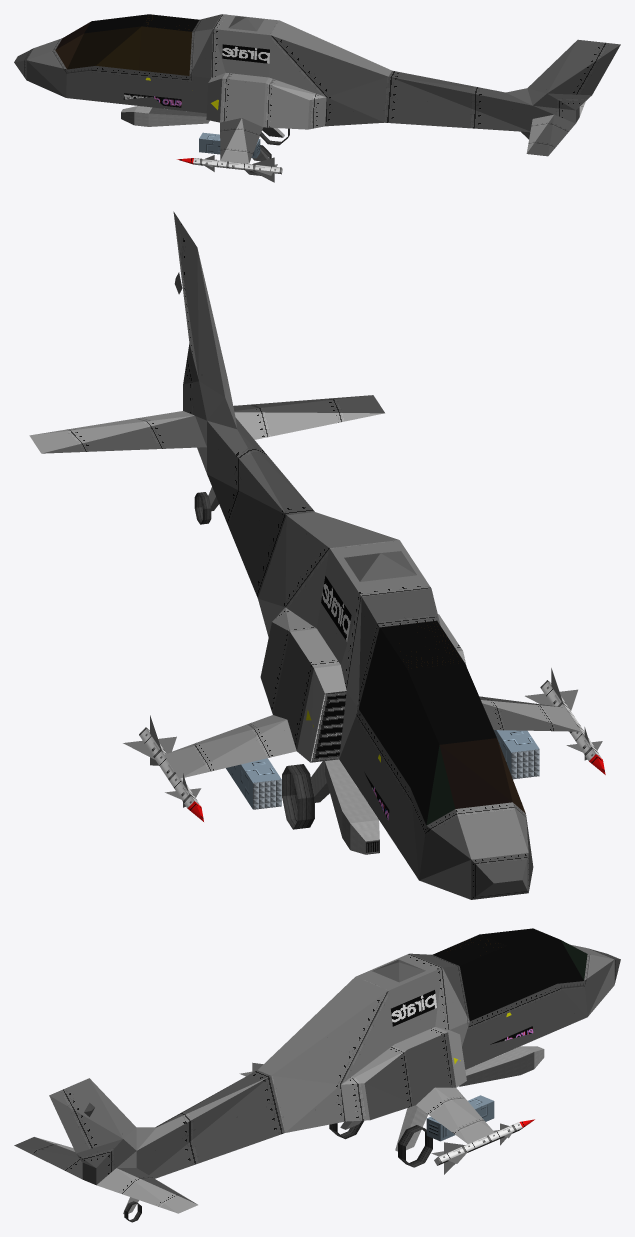
The model's file is primary_047.glb.
3 renders of one model, top to bottom at view 1: azimuth 30°, elevation 25°; view 2: azimuth 150°, elevation 25°; view 3: azimuth 270°, elevation 25°, orthographic. The views are drawn at different scales.
Visible parts, largest first — view 1: Object; view 2: Object; view 3: Object.
Part boxes in pixels (<box>): Object: <box>14,14,620,182</box>; Object: <box>29,211,605,899</box>; Object: <box>14,928,620,1222</box>.
Bounding box in the file's own units: 10.49 × 3.71 × 10.35.
38 materials, 38 textured.
